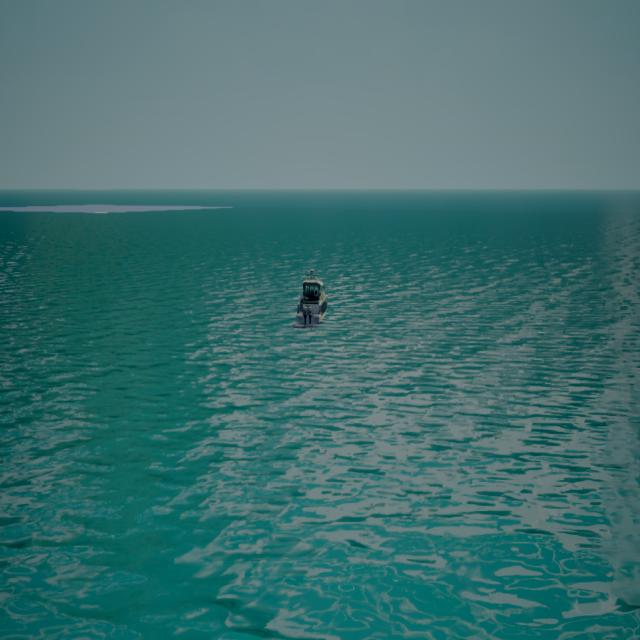ship: (295, 269, 328, 327)
